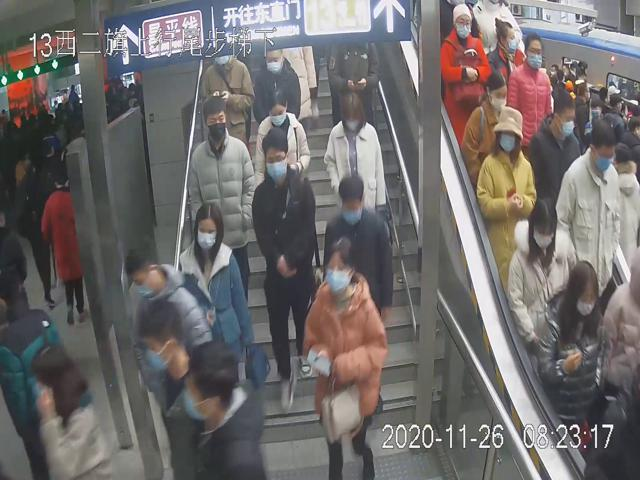person: (300, 236, 387, 480), (252, 127, 315, 414), (176, 199, 265, 401), (185, 96, 254, 303), (321, 172, 395, 349), (553, 116, 620, 309), (539, 259, 605, 439), (474, 104, 535, 290), (505, 192, 561, 353), (322, 85, 387, 223), (439, 1, 493, 141), (252, 88, 311, 187), (461, 71, 508, 188), (251, 42, 303, 137)
